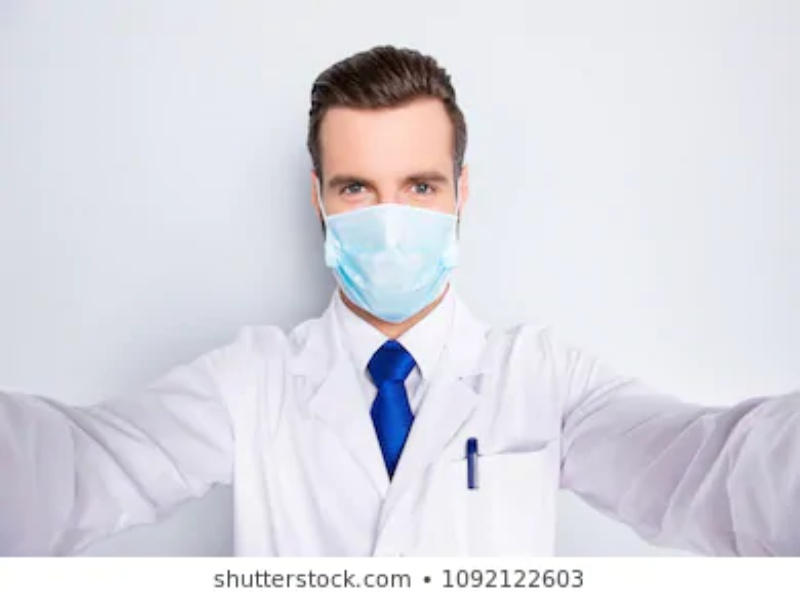ManaoArotava: (285, 54, 487, 354)
